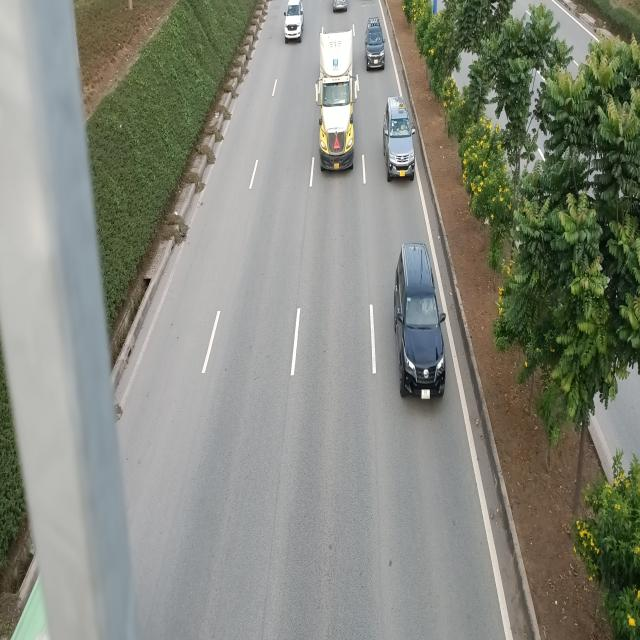car: (396, 245, 448, 402), (385, 100, 417, 184), (364, 15, 385, 68), (283, 0, 303, 42)
container: (318, 29, 360, 169)
